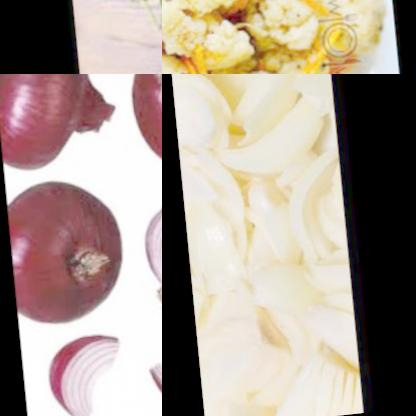cayliflower: (231, 0, 326, 74), (304, 0, 391, 74), (162, 0, 242, 67), (162, 29, 254, 74)
onion: (166, 74, 353, 416), (1, 171, 128, 337), (0, 74, 116, 177), (28, 322, 134, 416), (127, 188, 162, 356), (116, 74, 162, 187), (132, 350, 162, 416)
